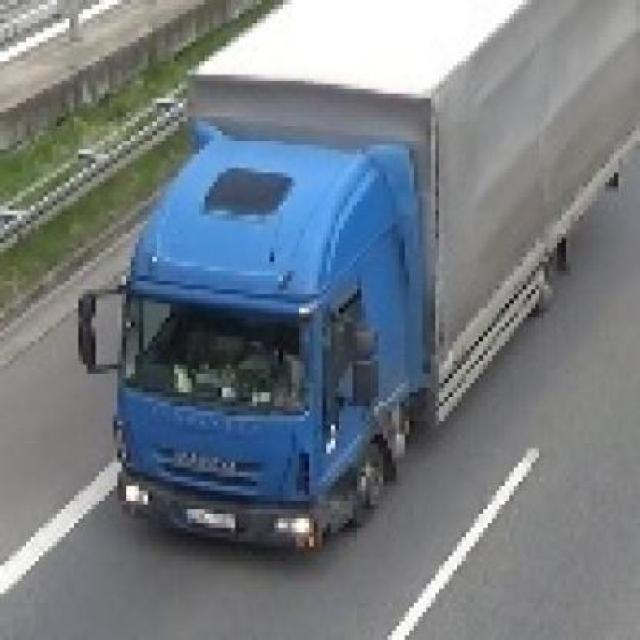truck: (84, 1, 640, 556)
